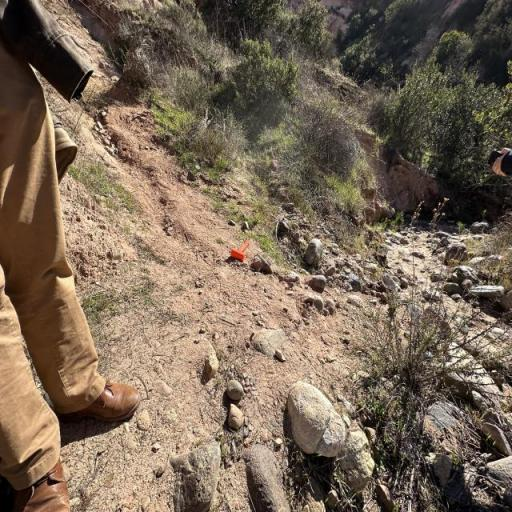mallet: (230, 240, 250, 262)
